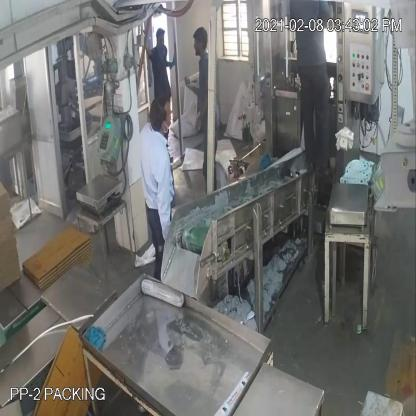no_glove: (152, 150, 176, 248)
